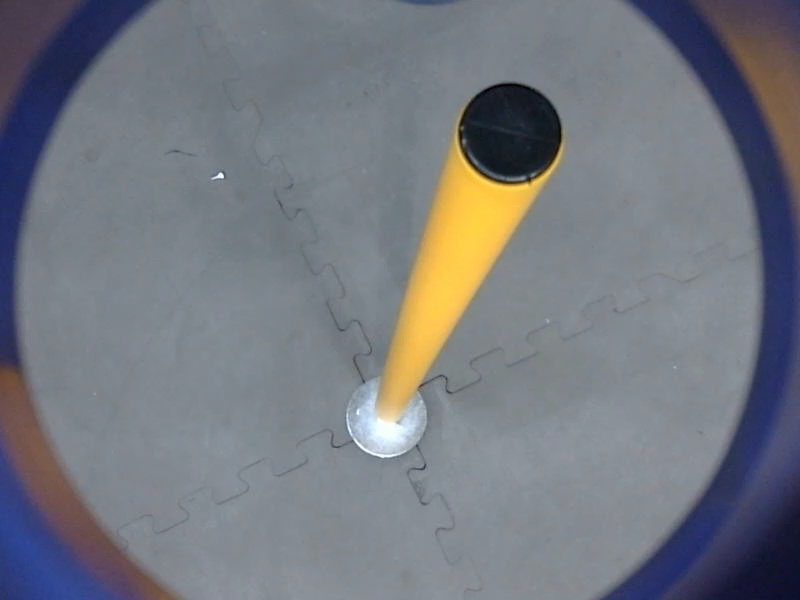tip: (450, 77, 570, 194)
